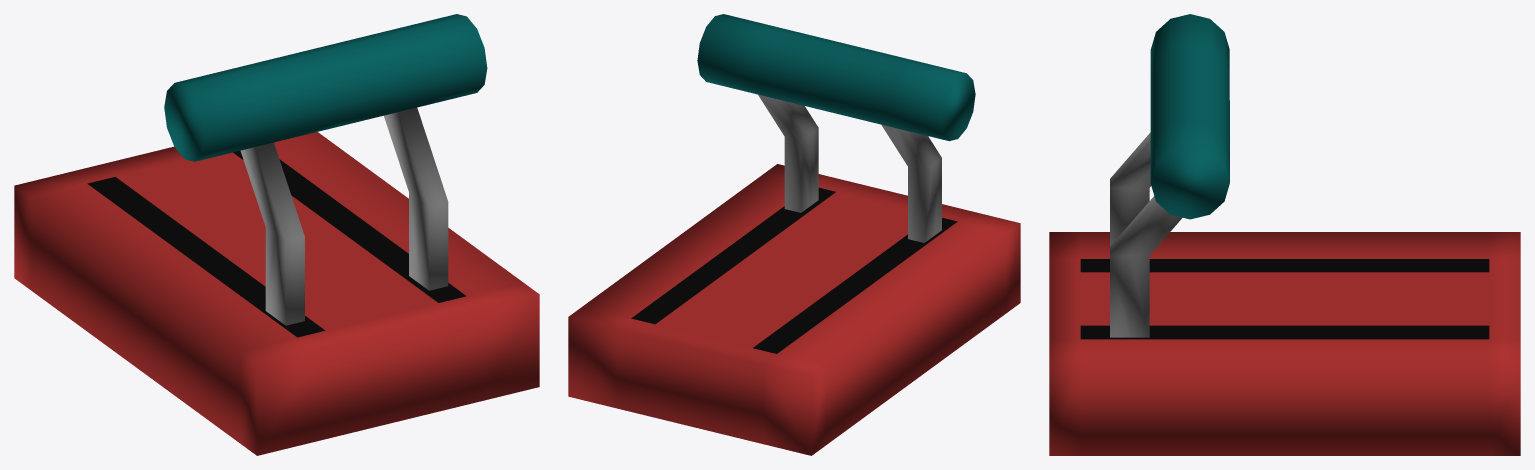
The model's file is PullLever.fbx.
3 renders of one model, left to right at view 1: azimuth 30°, elevation 25°; view 2: azimuth 150°, elevation 25°; view 3: azimuth 270°, elevation 25°, orthographic. The views are drawn at different scales.
Parts seen in each view (by area): view 1: Base, Handle; view 2: Base, Handle; view 3: Base, Handle.
Boxes of the visible parts, box(x1,y1,x2,y2) form: Base: box(14, 132, 539, 455); Handle: box(164, 14, 487, 325); Base: box(568, 164, 1020, 455); Handle: box(697, 14, 975, 242); Base: box(1049, 232, 1520, 455); Handle: box(1110, 14, 1229, 337).
Size of the model in its own units: 20 by 21.48 by 29.77.
